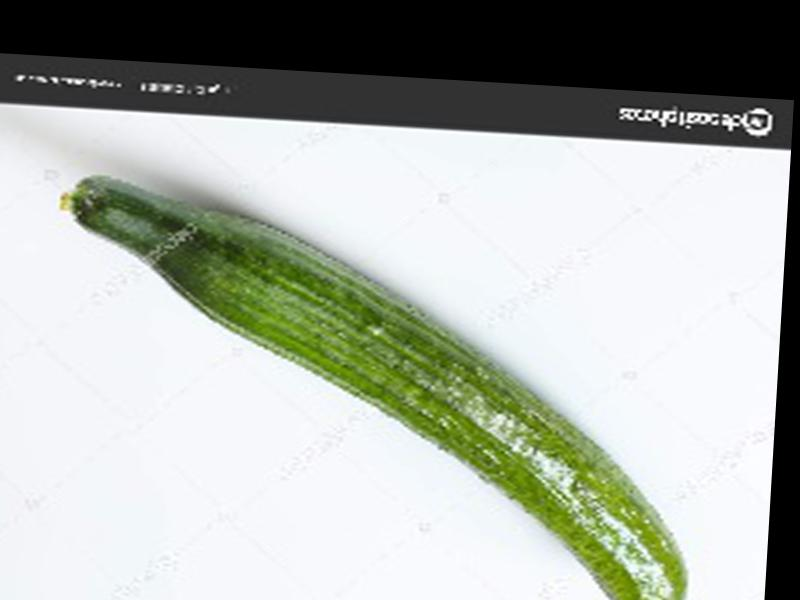Cucumber: (37, 178, 705, 600)
